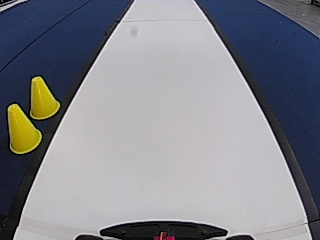cone: (7, 104, 42, 153), (30, 75, 61, 120)
